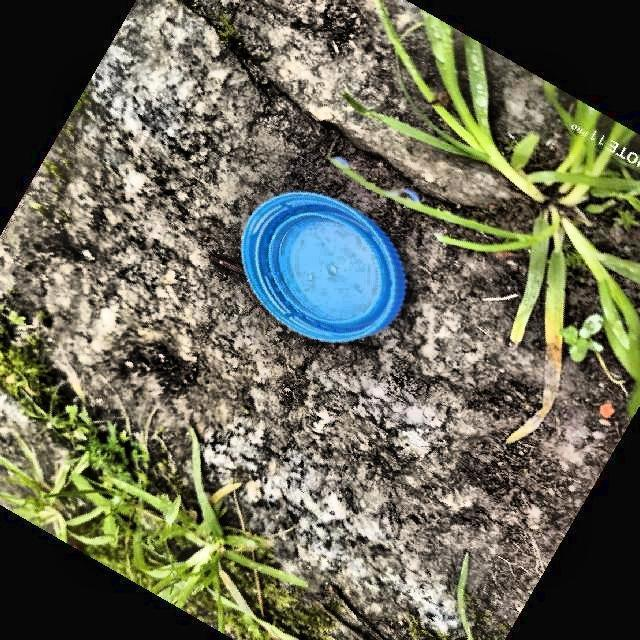plastic: (241, 192, 405, 342)
